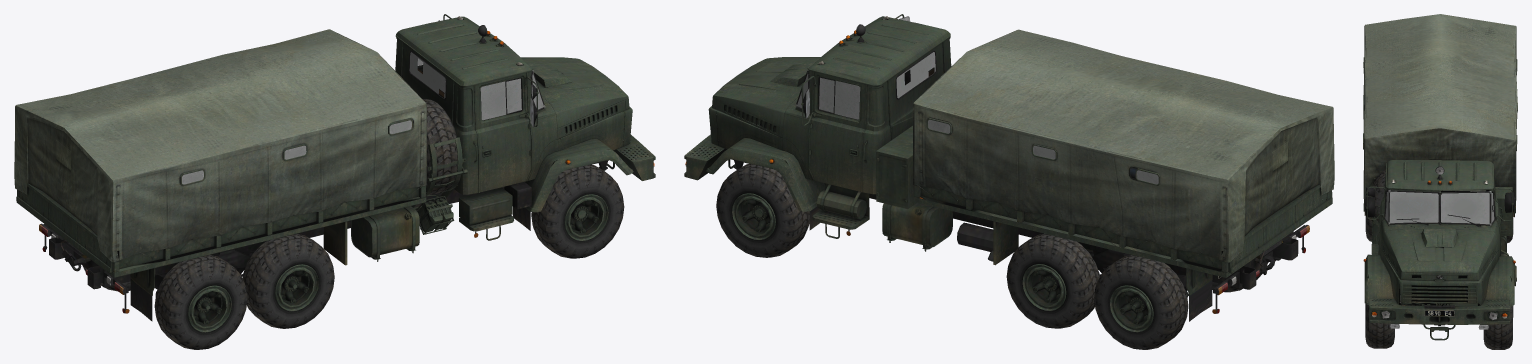
The model's file is Kraz_6322_M.fbx.
3 renders of one model, left to right at view 1: azimuth 30°, elevation 25°; view 2: azimuth 150°, elevation 25°; view 3: azimuth 270°, elevation 25°, orthographic. The views are drawn at different scales.
Parts seen in each view (by area): view 1: Chassis, Roue_02, Roue_01, Roue_Droite_01; view 2: Chassis, Roue_02, Roue_01, Roue_Gauche_01; view 3: Chassis, Roue_Droite_01, Roue_Gauche_01, Roue_01.
Part boxes in pixels (x1,y1,x2,y2): Chassis: [14, 14, 655, 321]; Roue_02: [83, 255, 247, 349]; Roue_01: [242, 234, 334, 328]; Roue_Droite_01: [531, 164, 624, 258]; Chassis: [684, 14, 1334, 321]; Roue_02: [1094, 255, 1267, 349]; Roue_01: [1006, 233, 1099, 328]; Roue_Gauche_01: [716, 163, 809, 257]; Chassis: [1363, 14, 1517, 340]; Roue_Droite_01: [1365, 304, 1394, 348]; Roue_Gauche_01: [1483, 306, 1513, 349]; Roue_01: [1365, 216, 1513, 243].
Bounding box in the file's own units: 6.86 × 2.22 × 2.53.
Materials: 2 (2 with a texture image).
